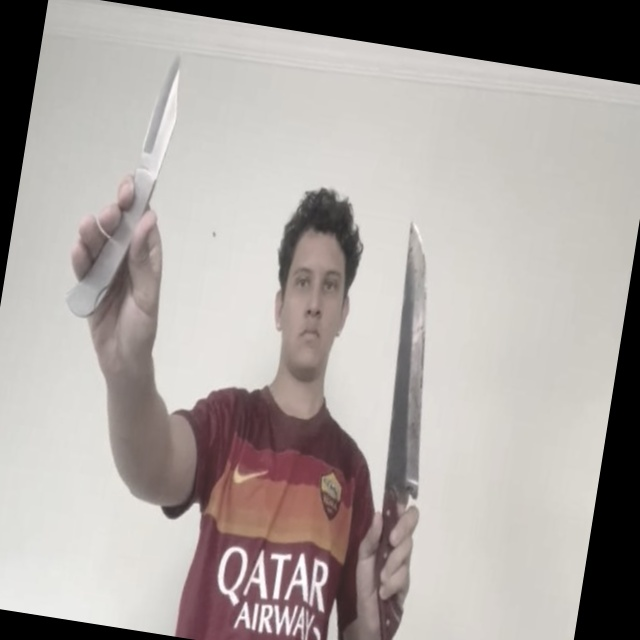Sharp-Object: (367, 219, 461, 506), (138, 52, 188, 178)
